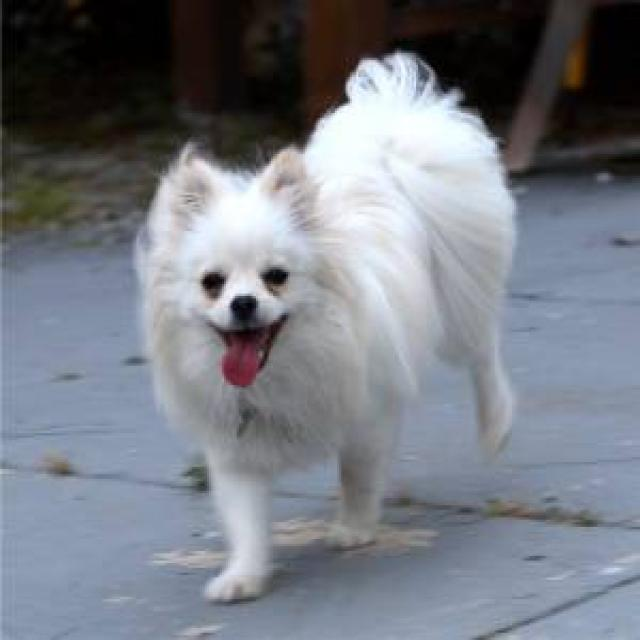dog-pomeranian: (143, 55, 518, 611)
